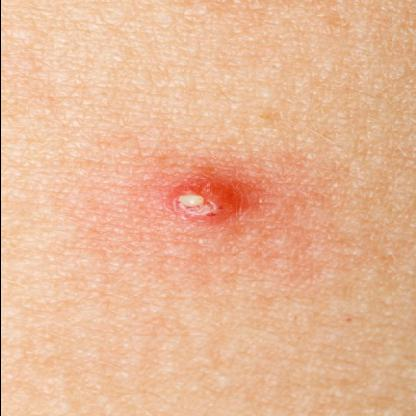Fire ant: (158, 160, 254, 234)
